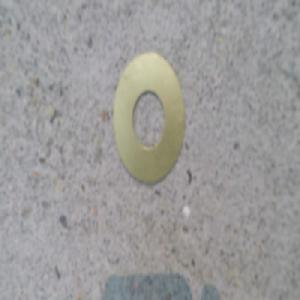Washer: (115, 68, 186, 193)
